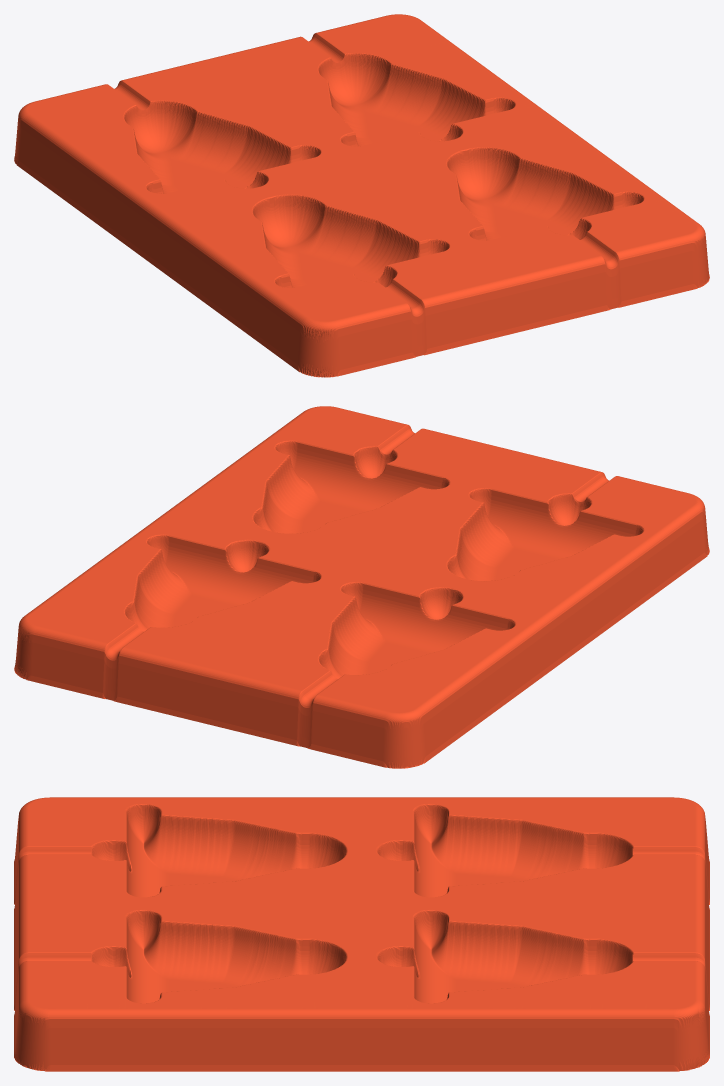
The model's file is mold.glb.
3 views of the same model, one above another, from view 1: azimuth 30°, elevation 25°; view 2: azimuth 150°, elevation 25°; view 3: azimuth 270°, elevation 25° (orthographic). The views are drawn at different scales.
Parts seen in each view (by area): view 1: geometry_0; view 2: geometry_0; view 3: geometry_0.
Part boxes in pixels (x1,y1,x2,y2): geometry_0: [14, 14, 709, 377]; geometry_0: [14, 406, 709, 768]; geometry_0: [14, 797, 709, 1071].
Size of the model in its own units: 0.1314 by 0.0155 by 0.1735.
